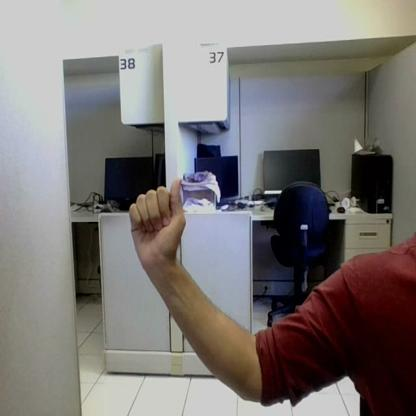A: (130, 179, 185, 262)
